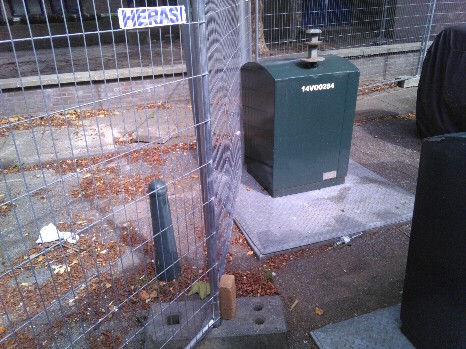Container: (243, 56, 364, 189)
